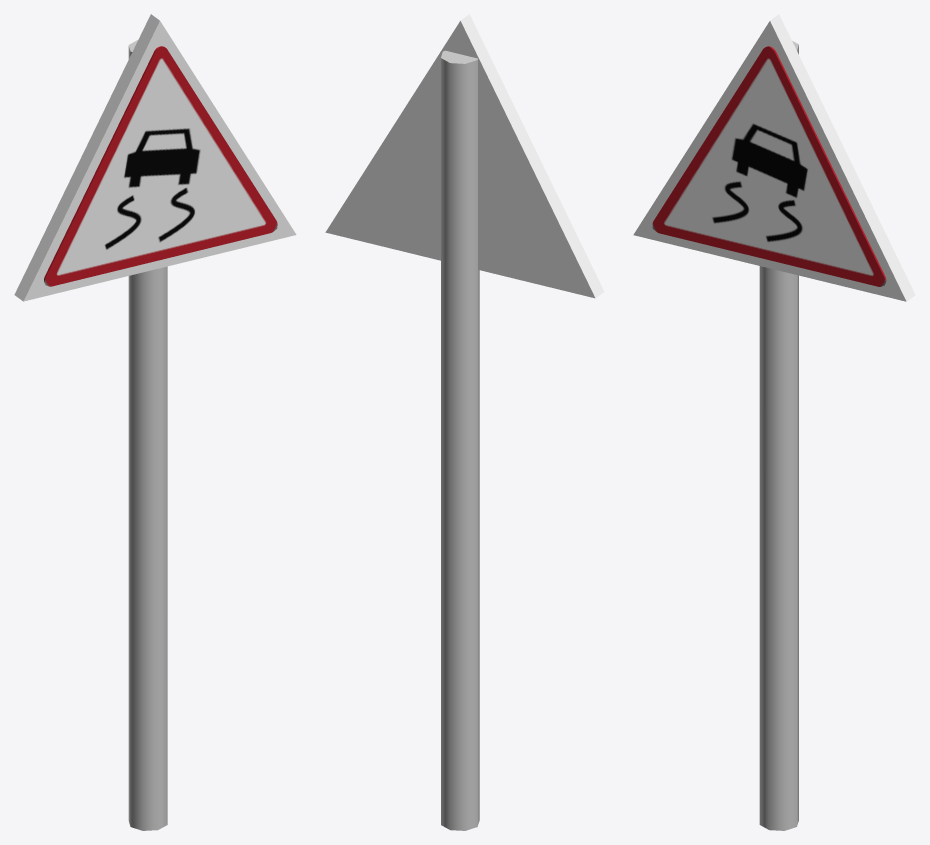
File: SLIPPERY.fbx
The picture shows the model from 3 angles, left to right: view 1: azimuth 30°, elevation 25°; view 2: azimuth 150°, elevation 25°; view 3: azimuth 330°, elevation 25°; orthographic projection.
Parts seen in each view (by area): view 1: group25_pasted__group24_pasted__pasted__group23_pasted__past; view 2: group25_pasted__group24_pasted__pasted__group23_pasted__past; view 3: group25_pasted__group24_pasted__pasted__group23_pasted__past.
Part boxes in pixels (box(x1,y1,x2,y2)): group25_pasted__group24_pasted__pasted__group23_pasted__past: box(14, 14, 296, 830); group25_pasted__group24_pasted__pasted__group23_pasted__past: box(325, 14, 604, 830); group25_pasted__group24_pasted__pasted__group23_pasted__past: box(633, 14, 915, 830).
Size of the model in its own units: 1.38 by 3.91 by 0.1925.
3 materials, 1 textured.
